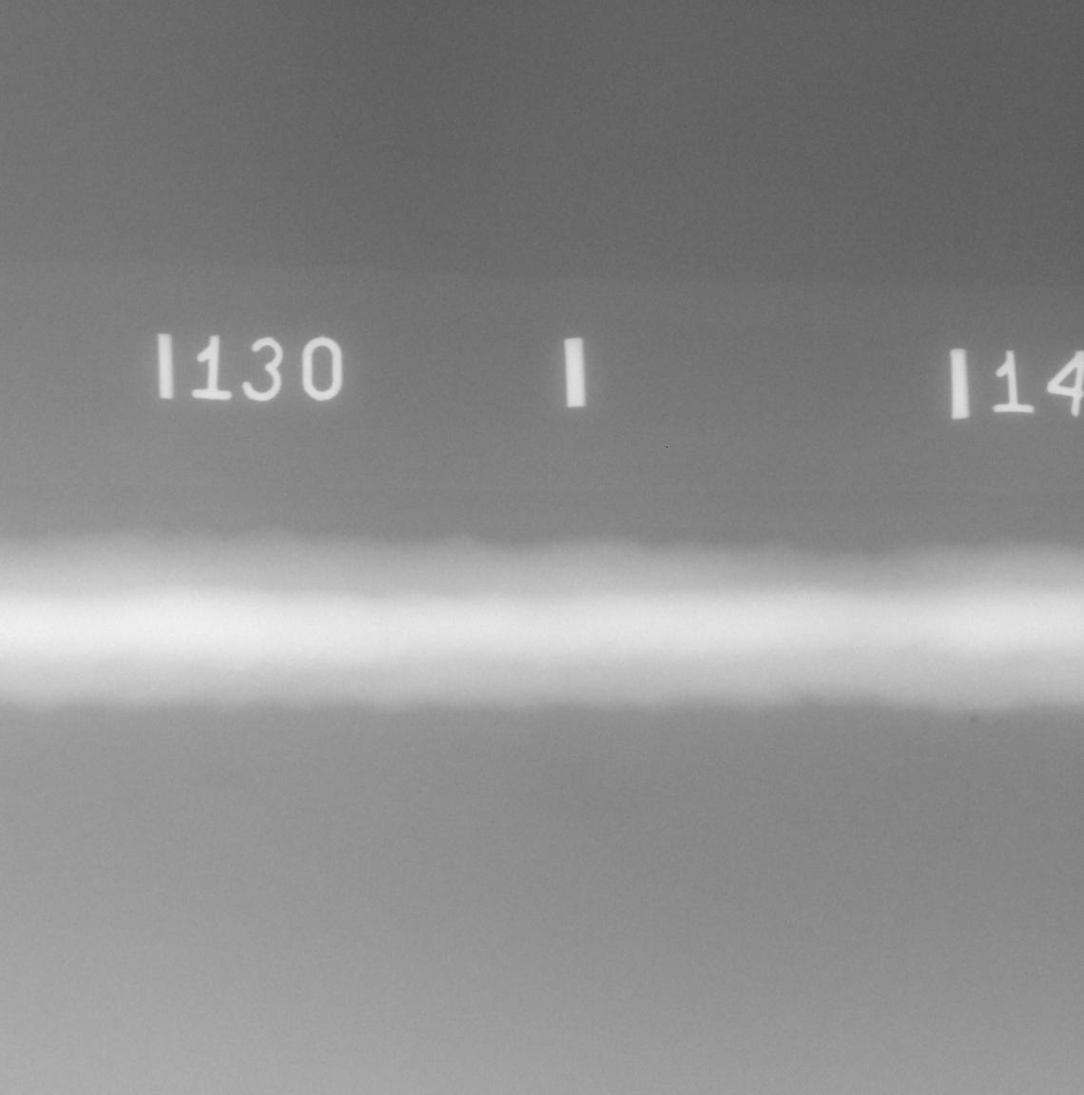Pore/Porosity: (971, 715, 977, 723), (957, 701, 963, 708), (996, 720, 1003, 724), (965, 709, 969, 713), (972, 708, 976, 711)
